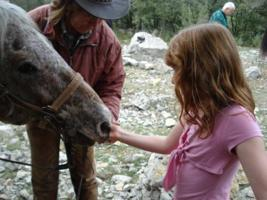person: (108, 22, 267, 200)
